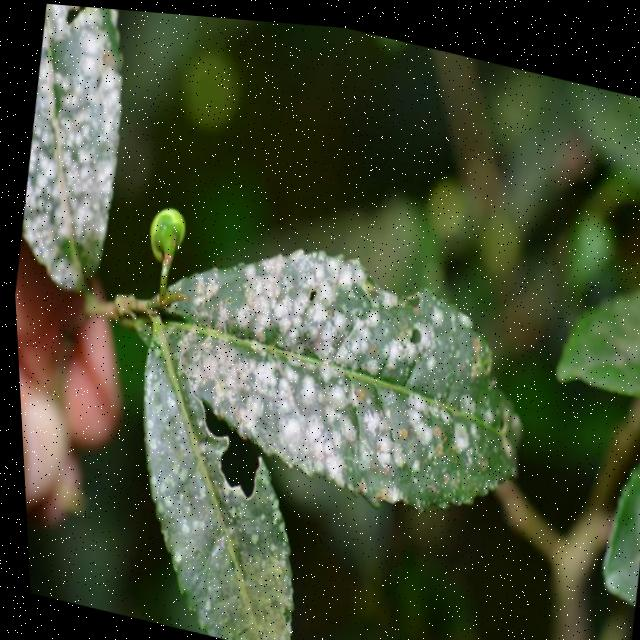Tea algae leaf spot: (164, 229, 509, 511), (113, 375, 323, 629), (17, 6, 139, 280)
